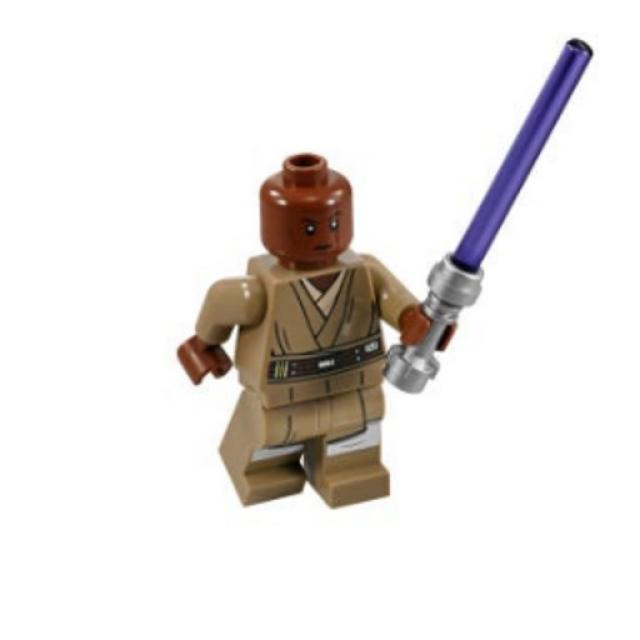Lego-Minifigures: (164, 126, 497, 528)
